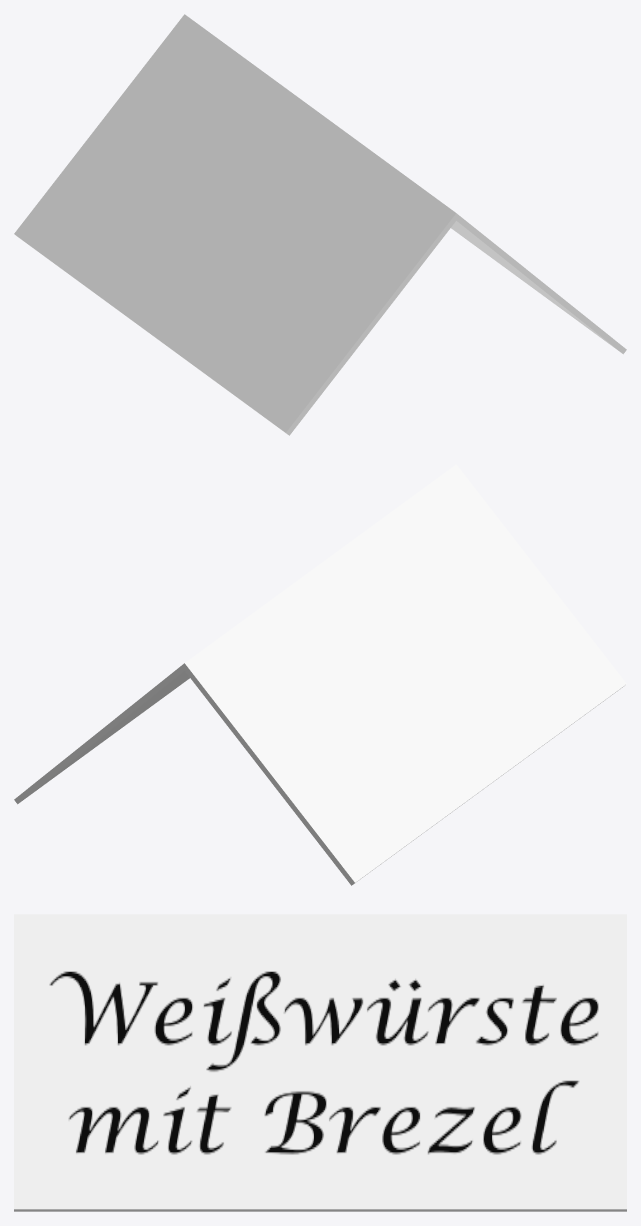
The model's file is Card_Weisswurst.fbx.
3 renders of one model, top to bottom at view 1: azimuth 30°, elevation 25°; view 2: azimuth 150°, elevation 25°; view 3: azimuth 270°, elevation 25°, orthographic. The views are drawn at different scales.
Parts seen in each view (by area): view 1: Card_Weisswurst; view 2: Card_Weisswurst; view 3: Card_Weisswurst.
Boxes of the visible parts, bbox=[...] form: Card_Weisswurst: bbox=[14, 14, 626, 435]; Card_Weisswurst: bbox=[14, 464, 626, 885]; Card_Weisswurst: bbox=[14, 914, 626, 1211].
Bounding box in the file's own units: 7.3 × 3.72 × 10.08.
